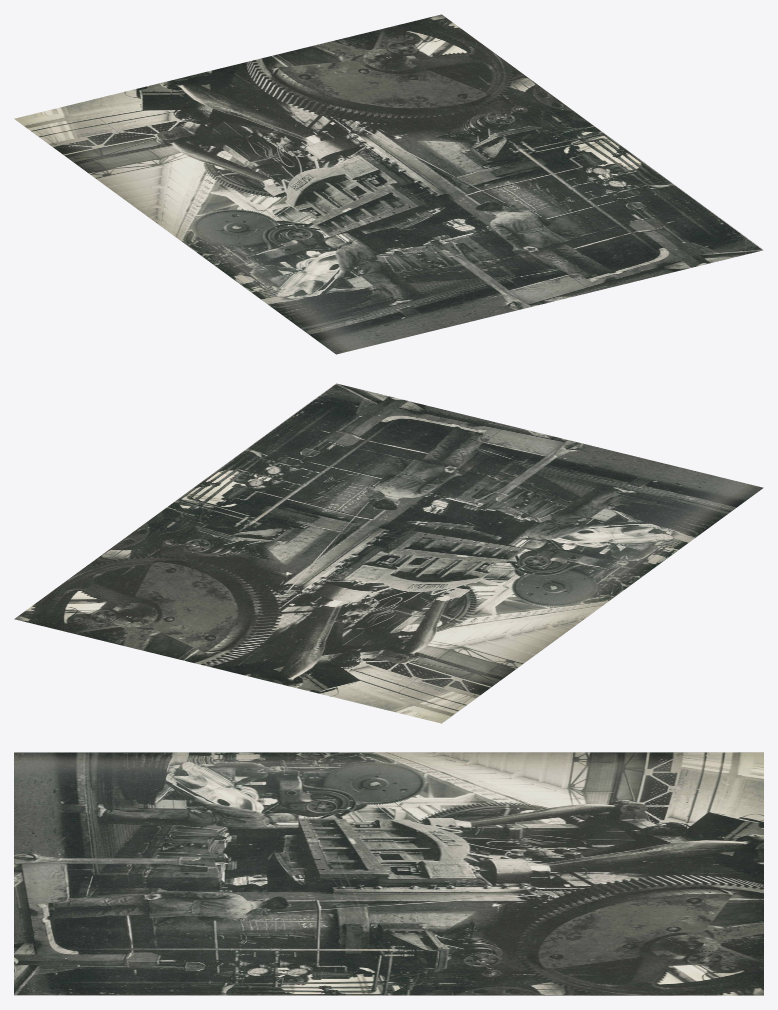
The model's file is pressa.obj.
3 views of the same model, one above another, from view 1: azimuth 30°, elevation 25°; view 2: azimuth 150°, elevation 25°; view 3: azimuth 270°, elevation 25° (orthographic). The views are drawn at different scales.
Parts seen in each view (by area): view 1: Plane001; view 2: Plane001; view 3: Plane001.
Part boxes in pixels (box(x1,y1,x2,y2)): Plane001: box(14, 14, 763, 354); Plane001: box(14, 383, 763, 723); Plane001: box(14, 752, 763, 995).
Bounding box in the file's own units: 60.5 × 0 × 78.9.
